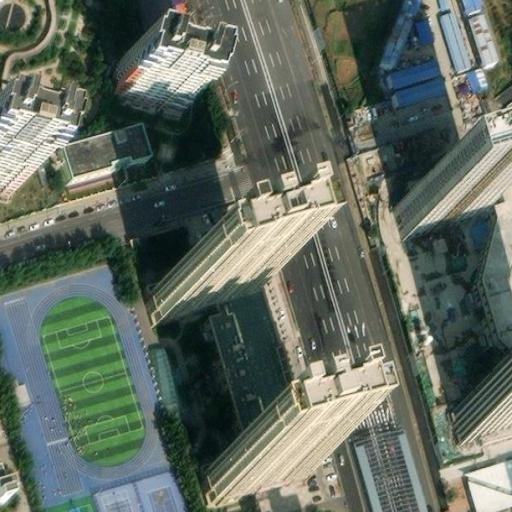building: (210, 280, 302, 450), (213, 420, 324, 489), (157, 242, 269, 302), (478, 192, 512, 349), (401, 166, 489, 222), (64, 117, 151, 168), (112, 49, 193, 103), (453, 380, 512, 430), (466, 451, 512, 507), (438, 3, 473, 67), (393, 71, 446, 102), (387, 52, 440, 81), (470, 8, 500, 59), (458, 66, 486, 97), (0, 146, 17, 188), (0, 470, 15, 506), (463, 0, 482, 7)
